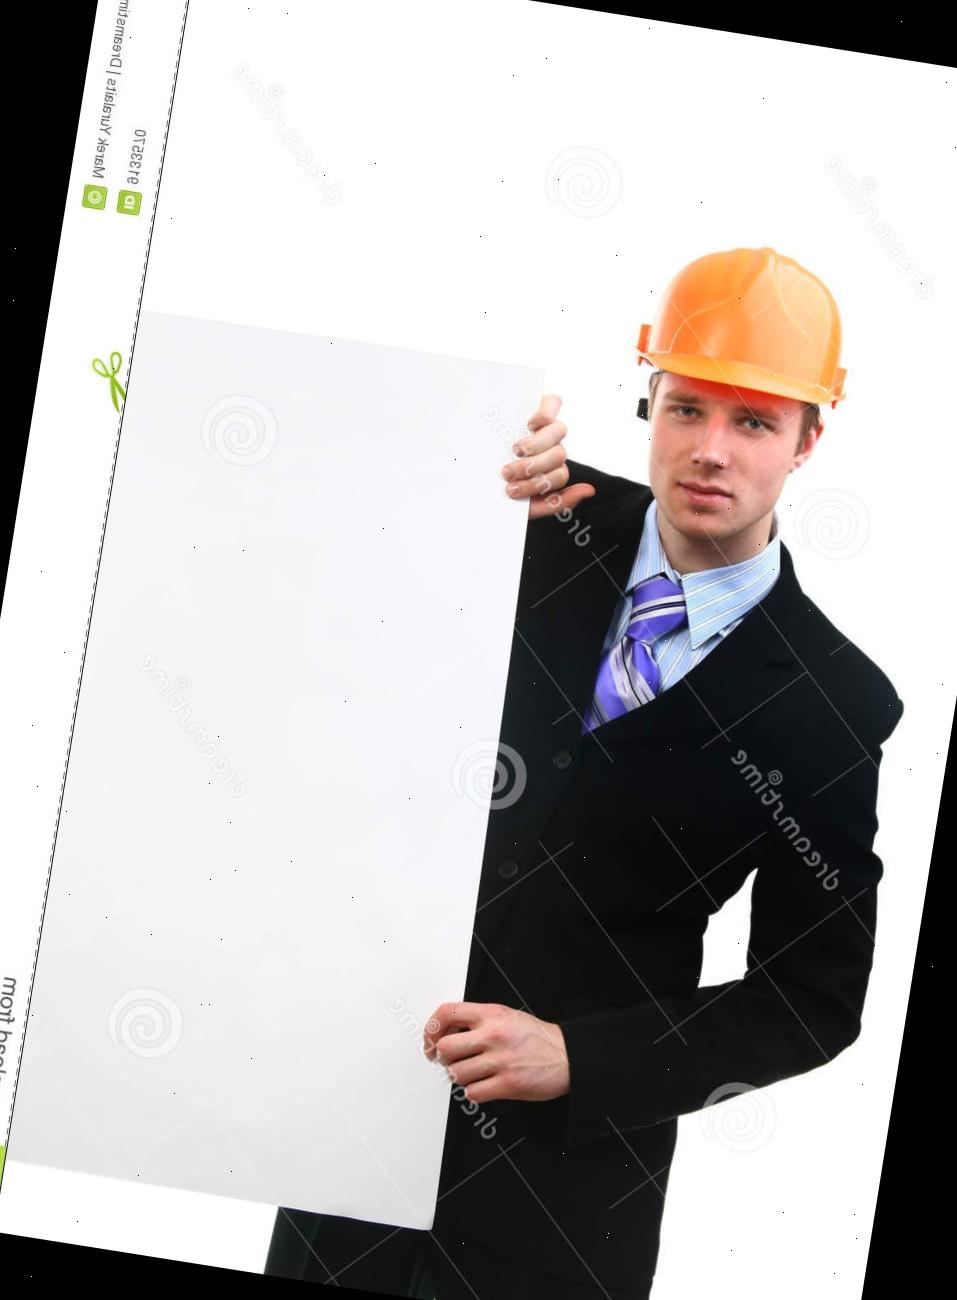helmet: (628, 222, 867, 425)
no_wear: (446, 522, 927, 1107)
